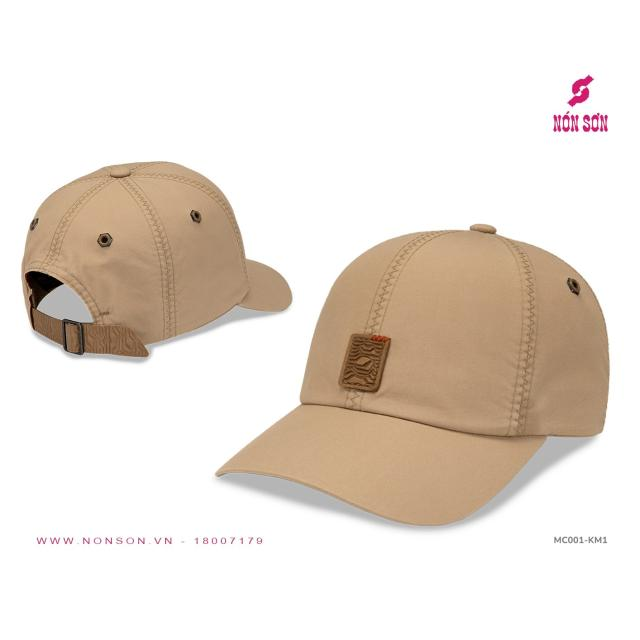no_helmet: (209, 219, 616, 537), (15, 155, 299, 367)
